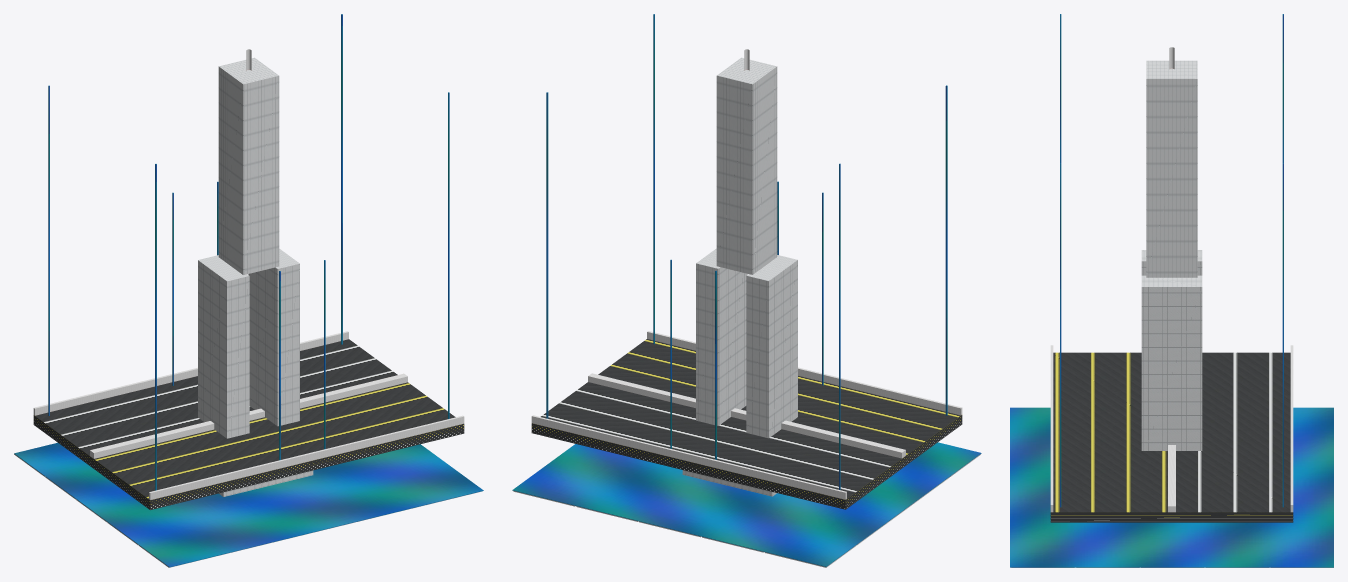
3 views of the same model, side by side, from view 1: azimuth 30°, elevation 25°; view 2: azimuth 150°, elevation 25°; view 3: azimuth 270°, elevation 25° (orthographic). The views are drawn at different scales.
Parts seen in each view (by area): view 1: 28185_B19_Songdo_Bridge_Pylon; view 2: 28185_B19_Songdo_Bridge_Pylon; view 3: 28185_B19_Songdo_Bridge_Pylon.
Part boxes in pixels (x1,y1,x2,y2): 28185_B19_Songdo_Bridge_Pylon: (14, 14, 483, 567); 28185_B19_Songdo_Bridge_Pylon: (512, 14, 981, 567); 28185_B19_Songdo_Bridge_Pylon: (1010, 14, 1333, 567).
Size of the model in its own units: 56 by 72 by 48.
Materials: 1 (1 with a texture image).
